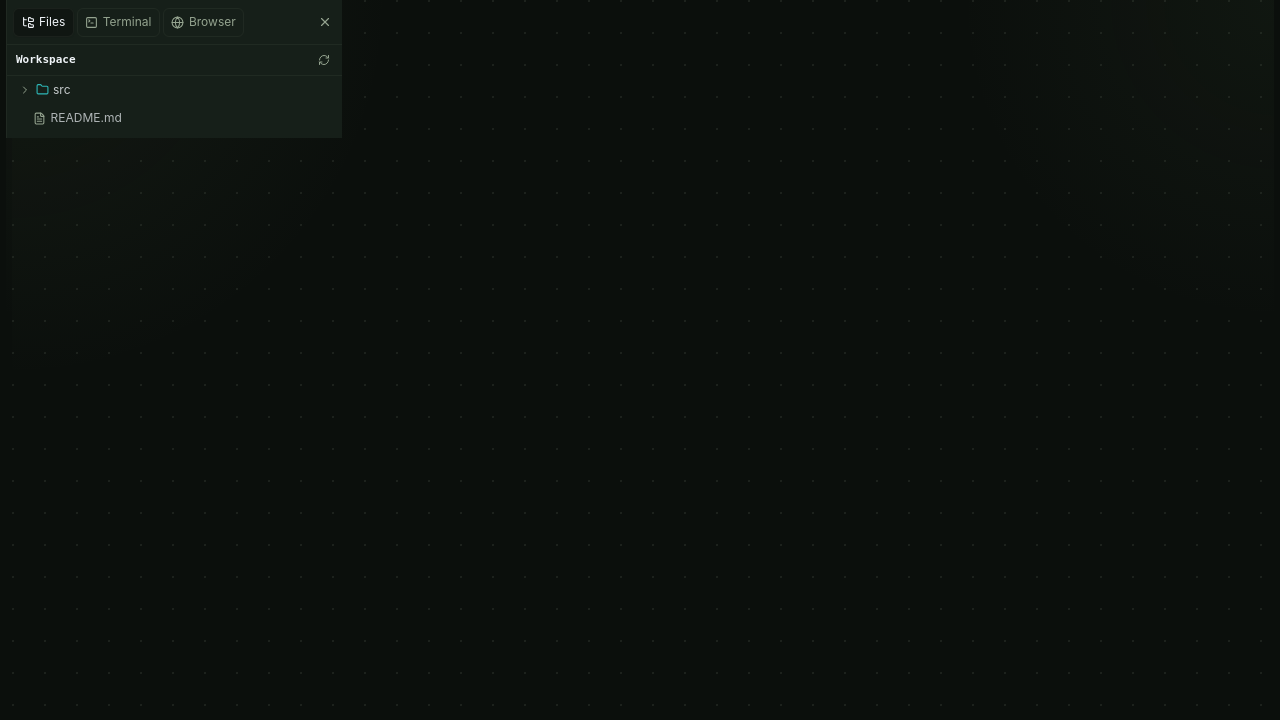
Scenario: DeepSpaceSidePanel › expands a folder inline and lists the entries it fetched
Click the button "src".
click(25, 90)  # box [13,76,336,103]
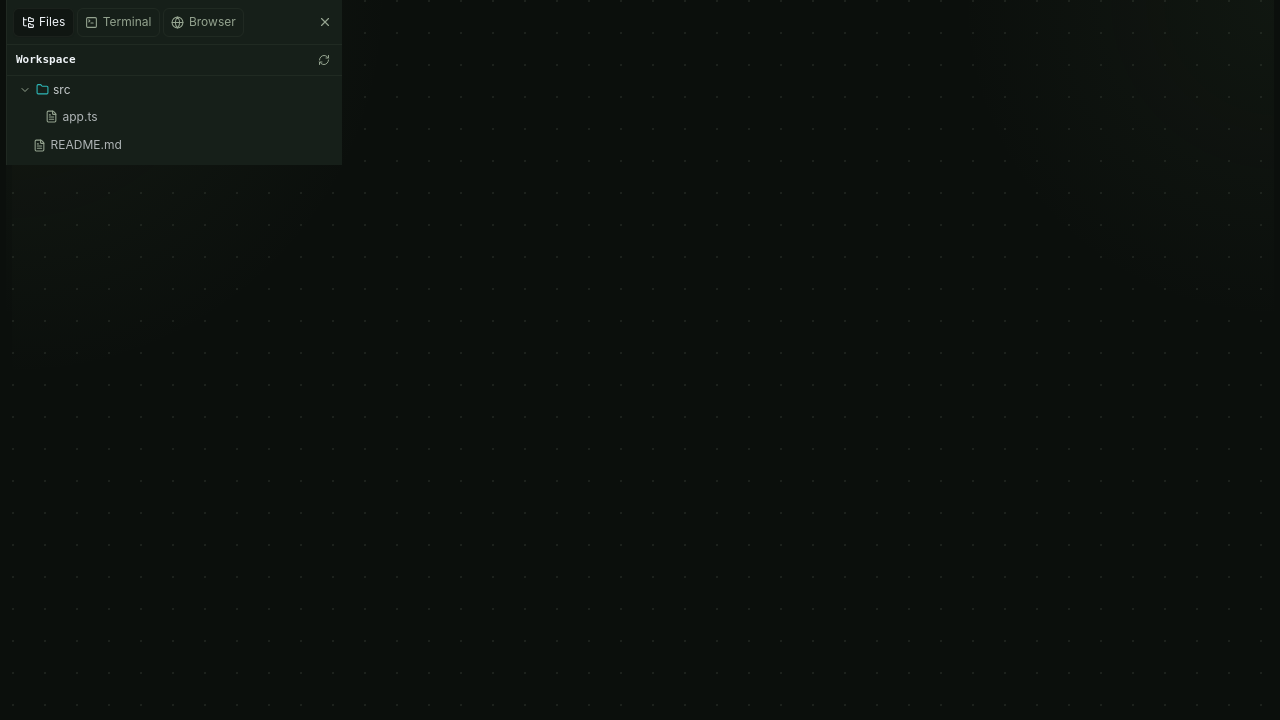
Now the button "app.ts" is shown, box [13,103,336,130]
